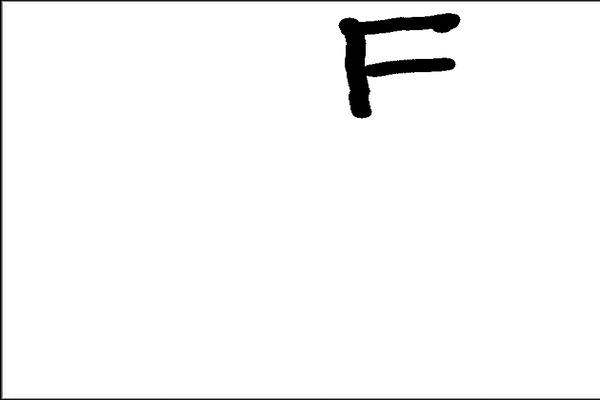F: (335, 8, 462, 121)
